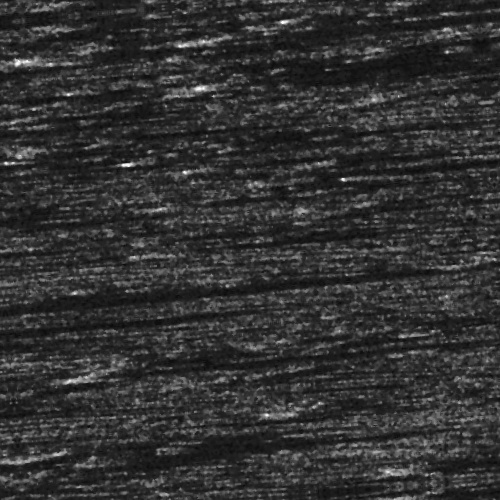object: (144, 73, 279, 86), (34, 355, 97, 366), (28, 440, 91, 451), (192, 31, 285, 38), (121, 238, 204, 245), (1, 429, 54, 438), (170, 159, 253, 164), (120, 146, 173, 151), (278, 0, 341, 3), (0, 457, 10, 462)
shadow: (0, 279, 401, 290), (66, 355, 453, 366), (60, 440, 369, 451), (212, 73, 462, 86), (27, 429, 335, 438), (0, 303, 255, 312), (162, 238, 402, 245), (0, 316, 151, 325), (0, 107, 173, 114), (147, 146, 386, 151), (0, 179, 49, 200), (0, 457, 132, 462), (239, 31, 324, 38), (211, 159, 293, 164), (310, 0, 395, 3)
